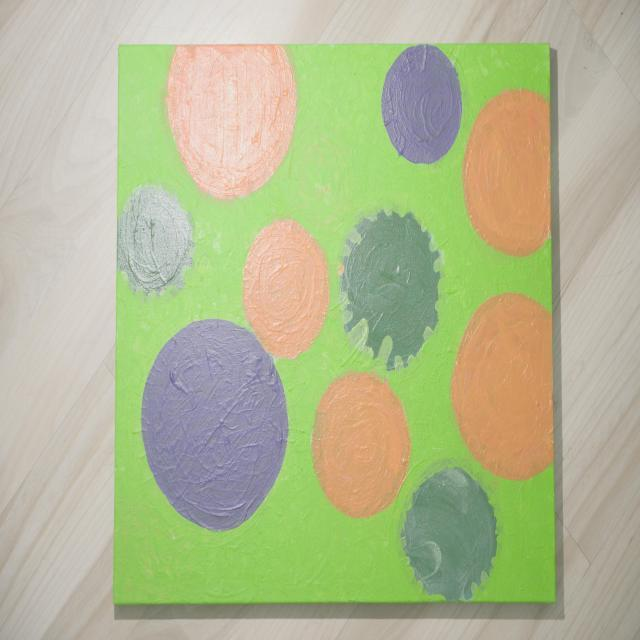painting: (114, 44, 555, 604)
